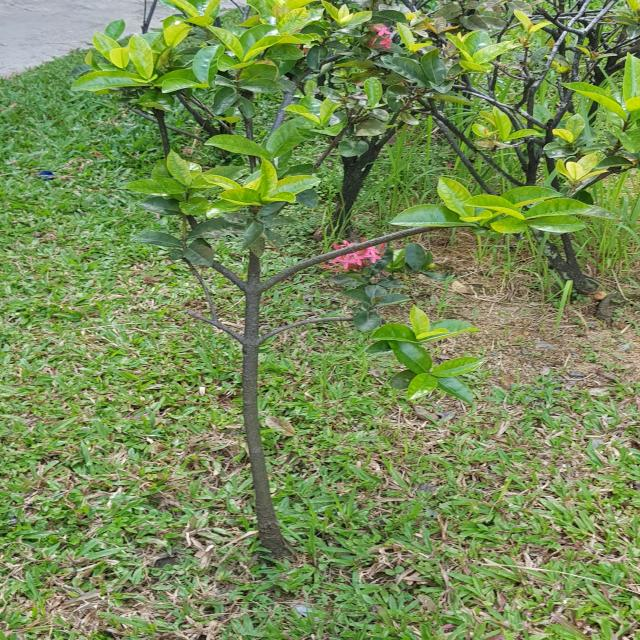Chinese-Ixora: (319, 236, 387, 274), (368, 24, 393, 52)
